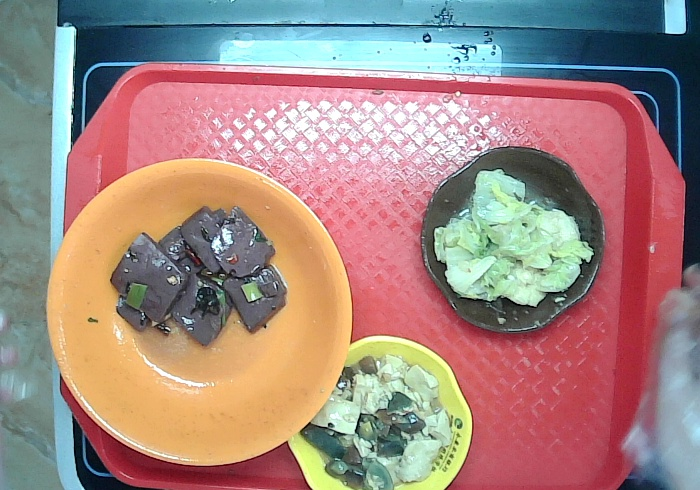YKMZ-Huang_Se_Ao_Bian_Wan: (281, 332, 478, 490)
YKMZ-Ju_Se_Tang_Wan: (35, 138, 362, 475)
YKMZ-Ka_Fei_Ao_Bian_Wan: (408, 138, 617, 345)
